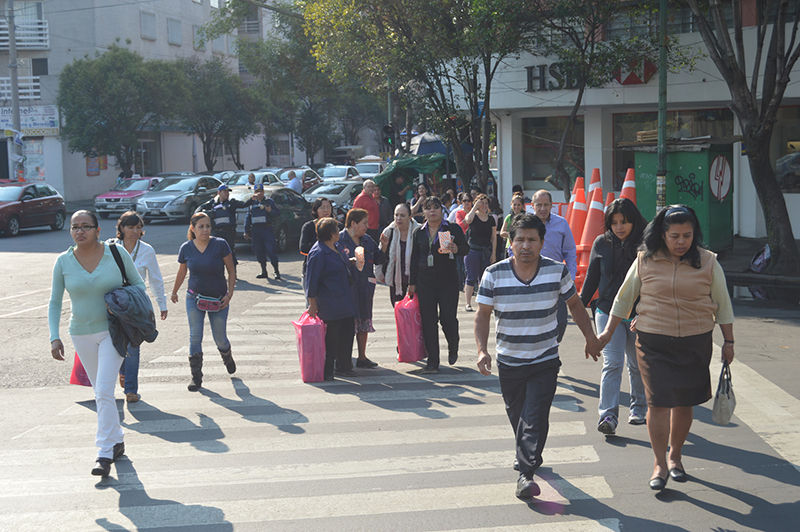pedestrian: (593, 199, 734, 490), (465, 209, 601, 502), (40, 204, 141, 479), (169, 205, 245, 388), (401, 196, 468, 370), (296, 218, 361, 382)
